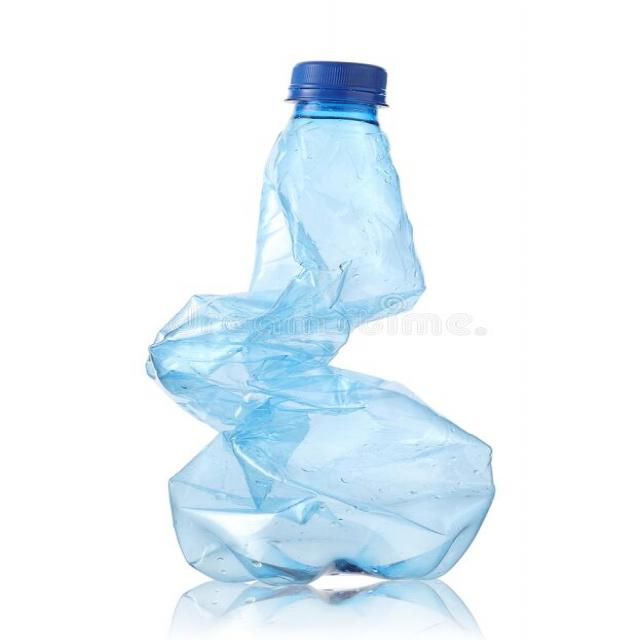Botella Plastica: (147, 65, 503, 584)
